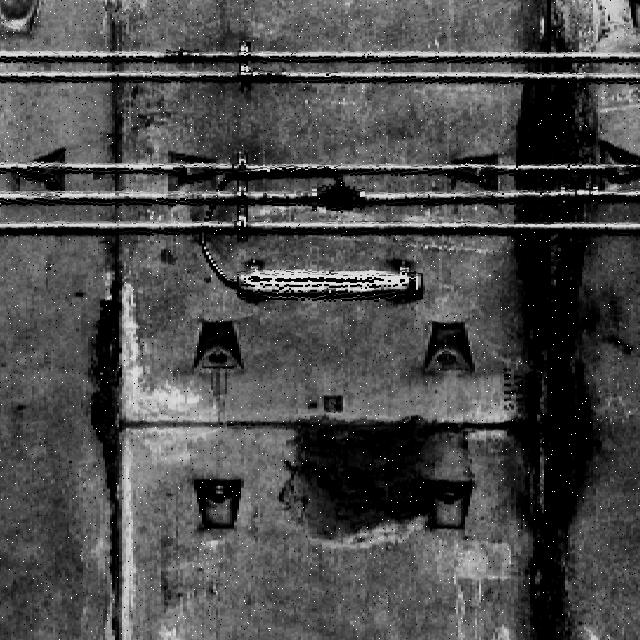leakage: (502, 1, 611, 640), (91, 240, 147, 640), (283, 417, 445, 541)
